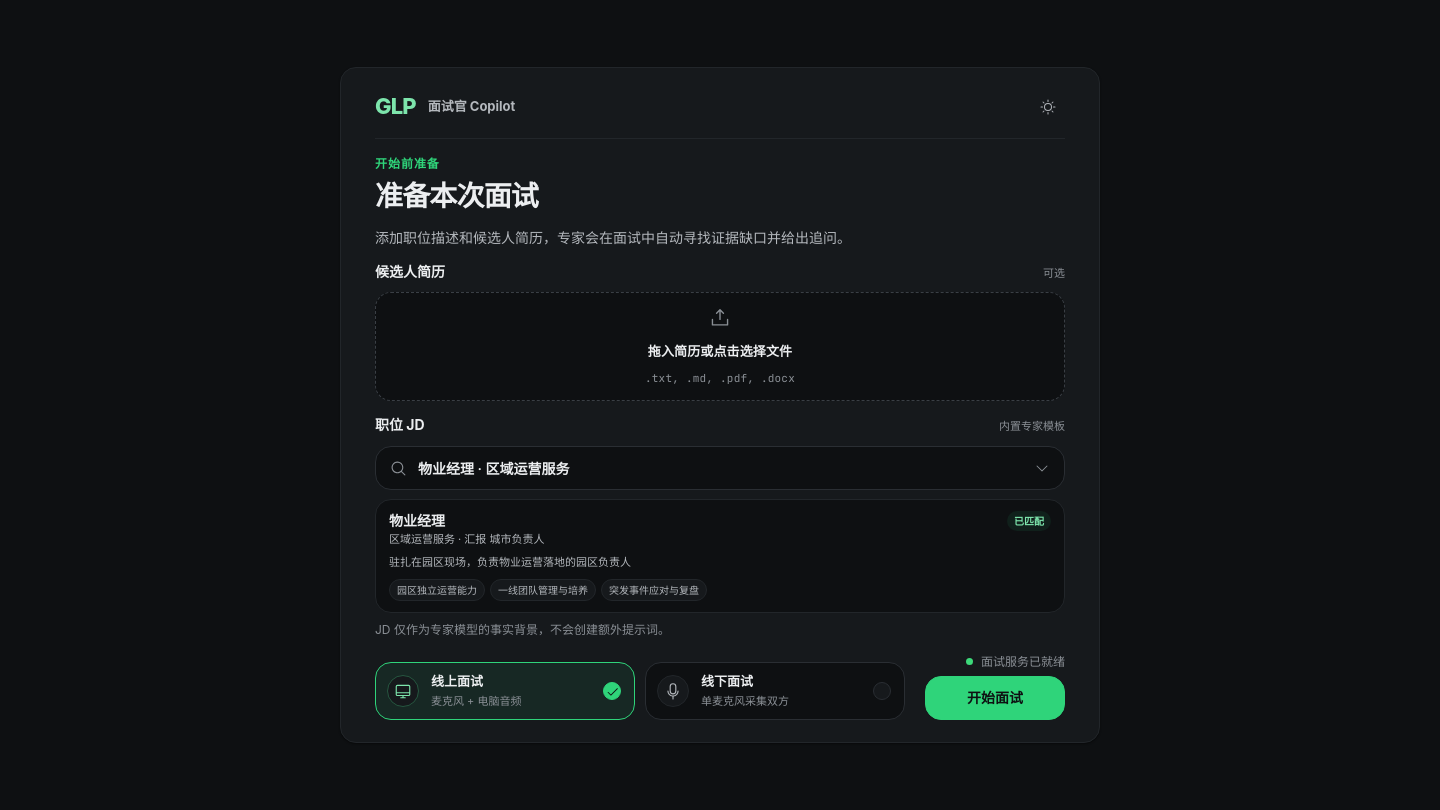
Test case: Shell one-shot interview workflow › starts with supplied JD as fixed Expert context and no user-facing policy settings
The width and height of the screenshot is (1440, 810).
Click the button "开始面试": (995, 698) [925,676,1065,720]
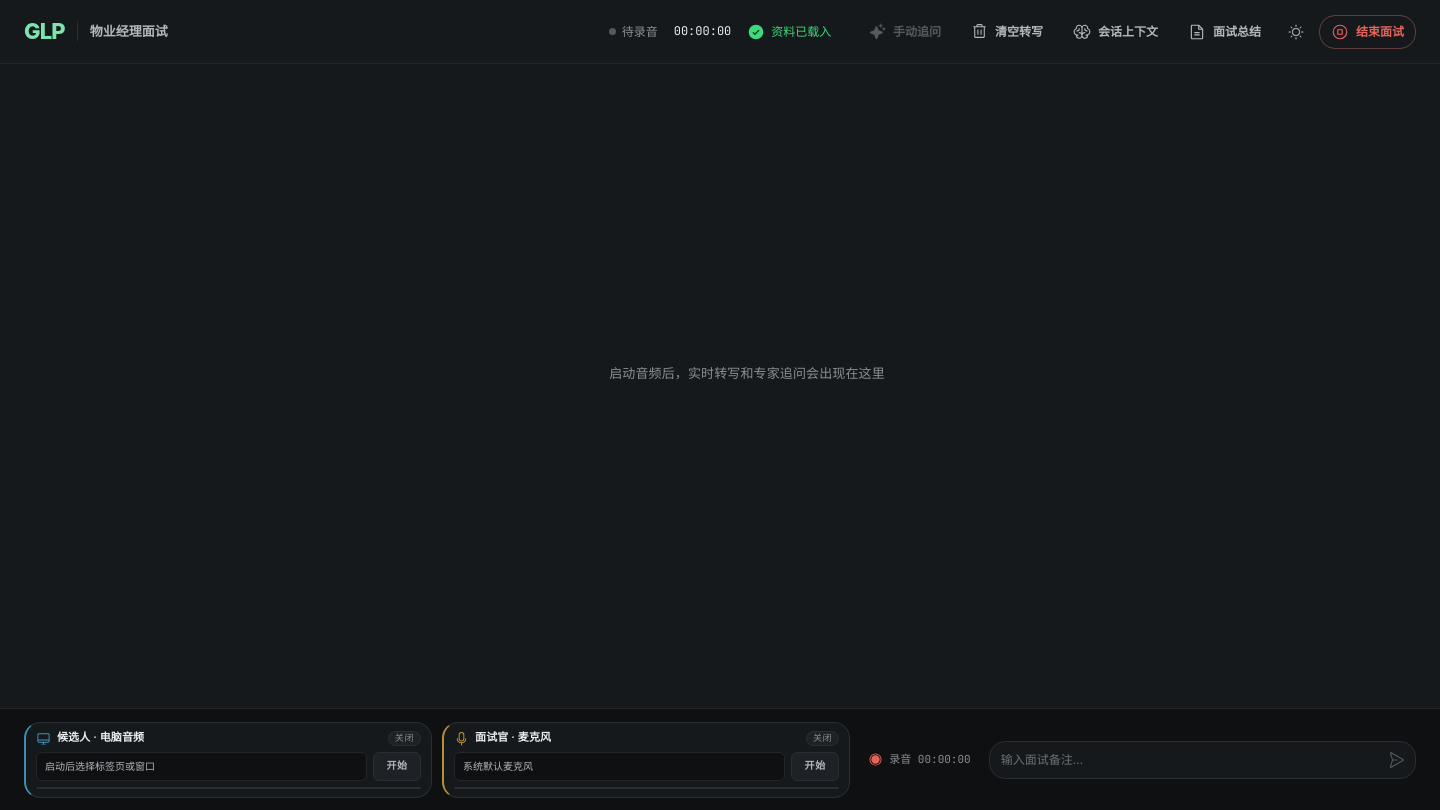
Expected: the button "结束面试" is shown, [1319,14,1416,48]
